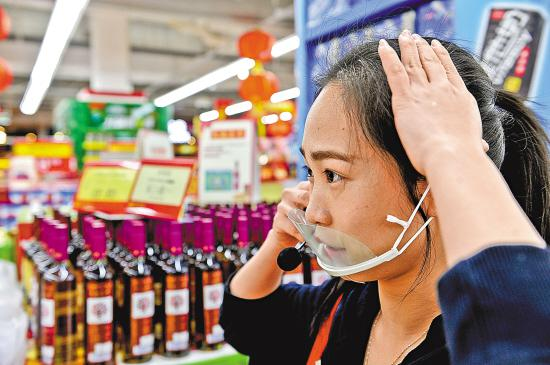WRONG: (298, 140, 440, 282)
